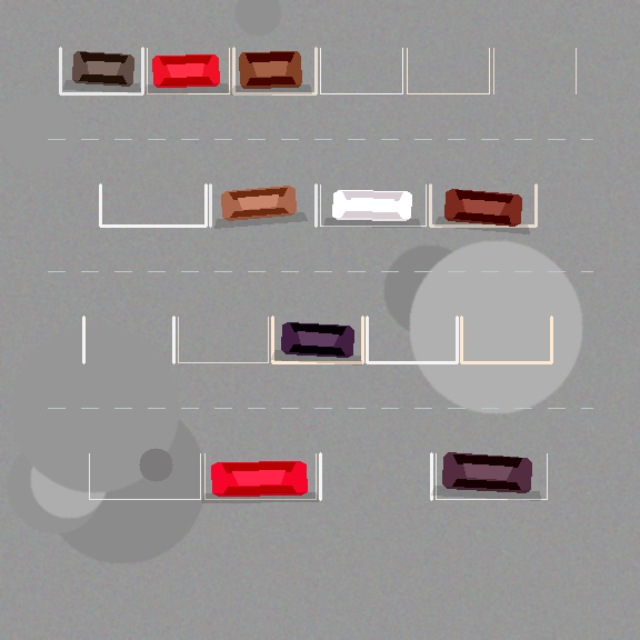space-empty: (89, 453, 200, 499), (320, 453, 431, 499), (100, 184, 206, 226), (83, 317, 173, 362), (178, 317, 268, 362), (367, 317, 457, 362), (461, 317, 551, 362), (493, 48, 576, 93), (320, 48, 402, 93), (407, 48, 489, 93)
space-occupied: (204, 453, 316, 499), (436, 453, 547, 499), (210, 184, 316, 226), (320, 184, 426, 226), (430, 184, 536, 226), (272, 317, 362, 362), (233, 48, 316, 93), (60, 48, 142, 93), (147, 48, 229, 93)
